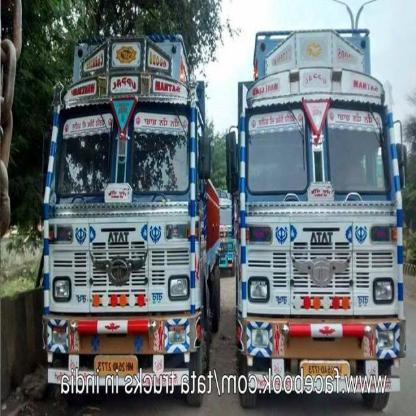truck: (220, 43, 400, 371), (37, 50, 219, 362), (219, 198, 238, 276)
